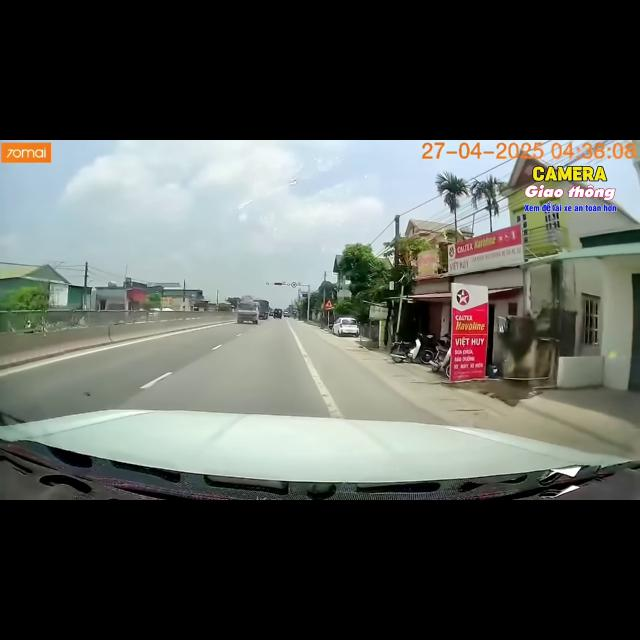car: (332, 317, 359, 336), (273, 309, 282, 318), (283, 311, 290, 317), (269, 309, 273, 316)
motorcycle: (391, 334, 434, 364), (430, 338, 450, 377)
truck: (236, 296, 259, 324), (256, 299, 269, 319)
